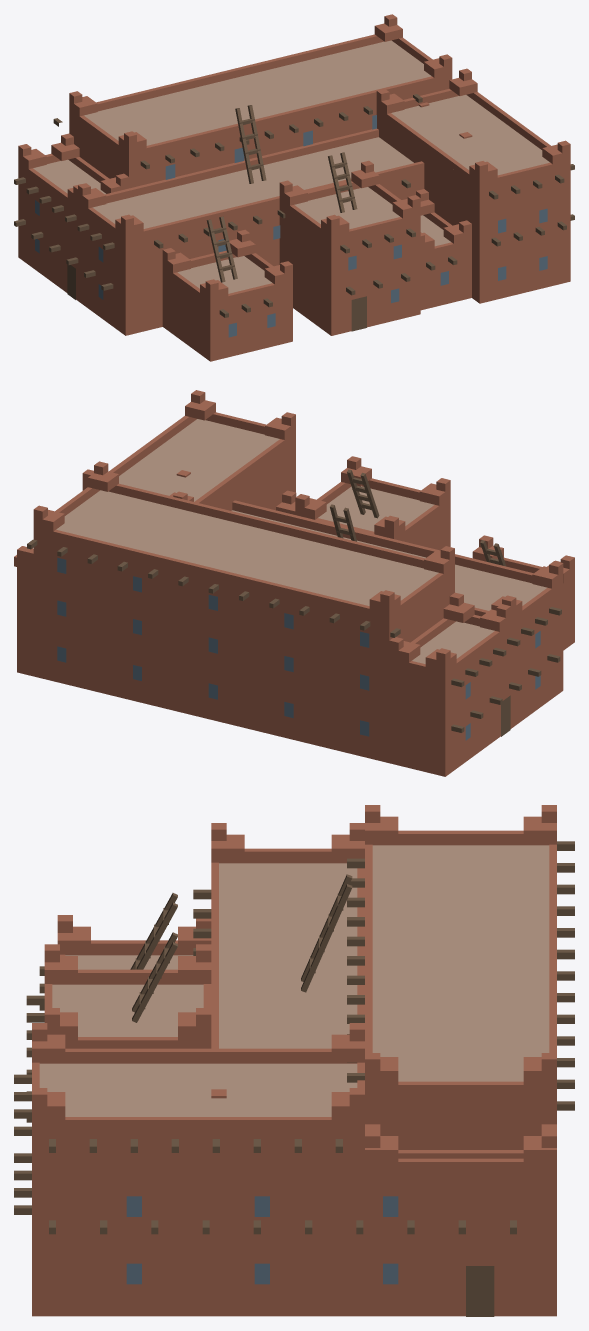
File: grand-canyon-hopi-house.glb
The picture shows the model from 3 angles, top to bottom: view 1: azimuth 30°, elevation 25°; view 2: azimuth 150°, elevation 25°; view 3: azimuth 270°, elevation 25°; orthographic projection. The views are drawn at different scales.
Visible parts, largest first — view 1: Hopi House; view 2: Hopi House; view 3: Hopi House.
Boxes of the visible parts, left/top/right/bottom form: Hopi House: left=14, top=14, right=574, bottom=361; Hopi House: left=14, top=390, right=574, bottom=776; Hopi House: left=14, top=805, right=574, bottom=1316.
Size of the model in its own units: 29.7 by 11.04 by 21.9.
